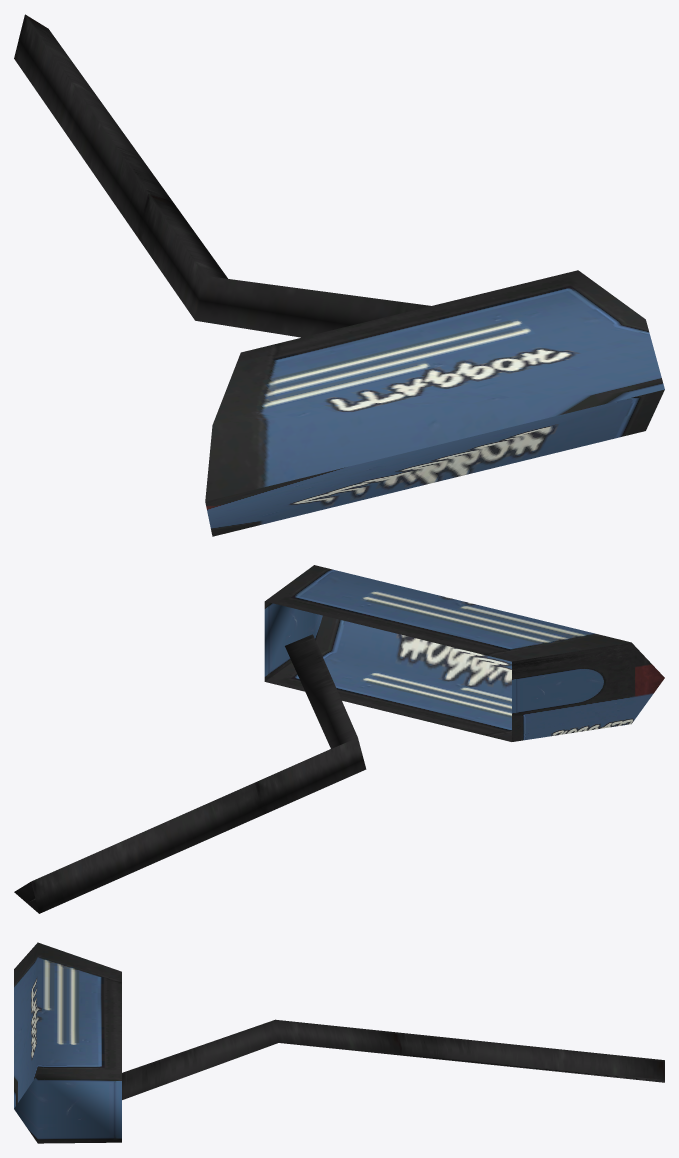
File: nt_2020_mailbox_hoggatt_LOD2.obj
3 views of the same model, one above another, from view 1: azimuth 30°, elevation 25°; view 2: azimuth 150°, elevation 25°; view 3: azimuth 270°, elevation 25° (orthographic). The views are drawn at different scales.
Parts seen in each view (by area): view 1: mtl_nt_2020_mailbox_hoggatt; view 2: mtl_nt_2020_mailbox_hoggatt; view 3: mtl_nt_2020_mailbox_hoggatt.
Part boxes in pixels (left/top/right/bottom): mtl_nt_2020_mailbox_hoggatt: left=14, top=14, right=664, bottom=536; mtl_nt_2020_mailbox_hoggatt: left=14, top=565, right=664, bottom=913; mtl_nt_2020_mailbox_hoggatt: left=14, top=942, right=664, bottom=1143.
Size of the model in its own units: 91.44 by 21.2 by 180.
